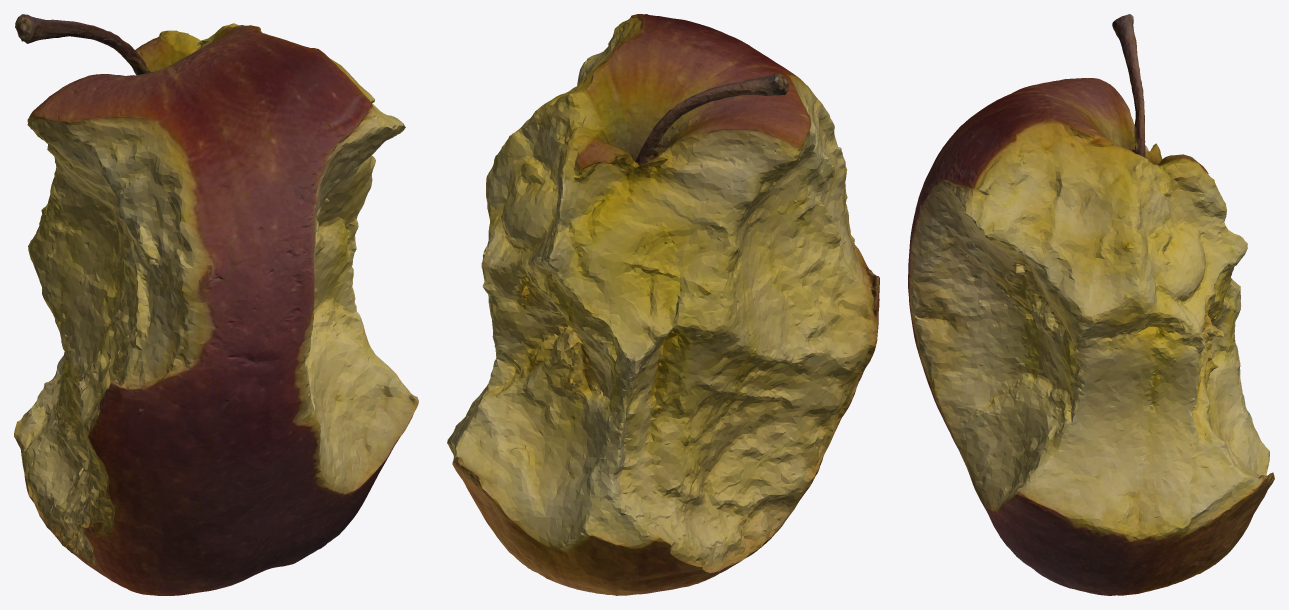
3 renders of one model, left to right at view 1: azimuth 30°, elevation 25°; view 2: azimuth 150°, elevation 25°; view 3: azimuth 270°, elevation 25°, orthographic. The views are drawn at different scales.
Parts seen in each view (by area): view 1: Apple_07_Apple_7_u1_v1_0; view 2: Apple_07_Apple_7_u1_v1_0; view 3: Apple_07_Apple_7_u1_v1_0.
Boxes of the visible parts, bbox=[...] form: Apple_07_Apple_7_u1_v1_0: bbox=[14, 14, 418, 595]; Apple_07_Apple_7_u1_v1_0: bbox=[447, 14, 879, 595]; Apple_07_Apple_7_u1_v1_0: bbox=[908, 14, 1274, 595].
Size of the model in its own units: 13.57 by 20.2 by 14.17.
Materials: 1 (1 with a texture image).
